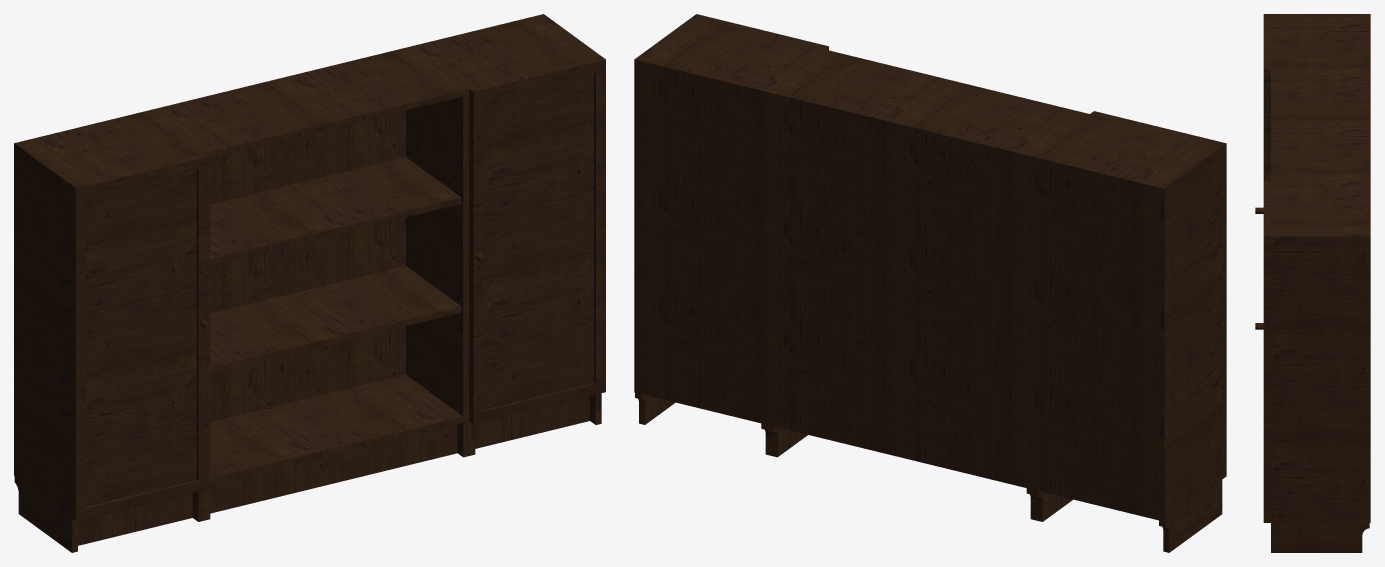
The model's file is Librero.glb.
3 renders of one model, left to right at view 1: azimuth 30°, elevation 25°; view 2: azimuth 150°, elevation 25°; view 3: azimuth 270°, elevation 25°, orthographic. The views are drawn at different scales.
Parts seen in each view (by area): view 1: Librero, Puerta izq, Puerta derecha; view 2: Librero, Puerta izq; view 3: Librero, Puerta derecha, Puerta izq.
Boxes of the visible parts, x1,y1,x2,y2 form: Librero: (14, 14, 601, 552); Puerta izq: (72, 153, 211, 521); Puerta derecha: (469, 56, 605, 424); Librero: (634, 17, 1222, 552); Puerta izq: (1090, 111, 1226, 478); Librero: (1271, 14, 1370, 552); Puerta derecha: (1255, 181, 1270, 522); Puerta izq: (1255, 14, 1270, 213).
Size of the model in its own units: 1.6 by 1.06 by 0.35.
Materials: 1 (1 with a texture image).
